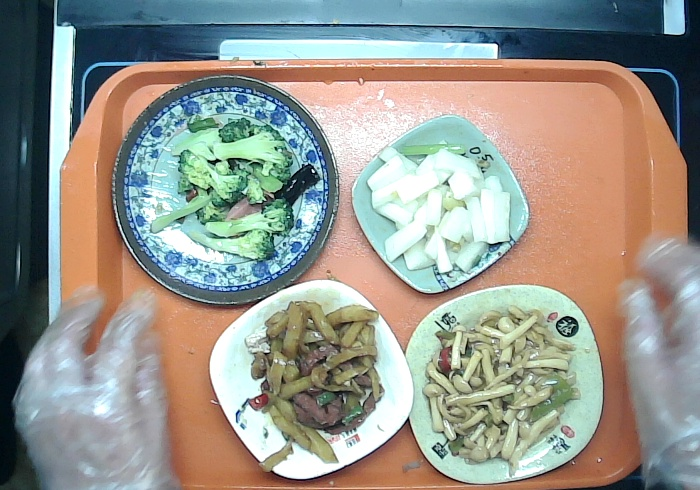NLDX-Bai_Se_Xiao_Fang_Die: (209, 280, 419, 487)
NLDX-Fu_Zi_Fang_Die: (408, 278, 608, 487)
NLDX-Qing_Hua_Xiao_Fang_Die: (347, 118, 539, 303)
NLDX-Qing_Hua_Yuan_Die: (103, 70, 339, 305)
